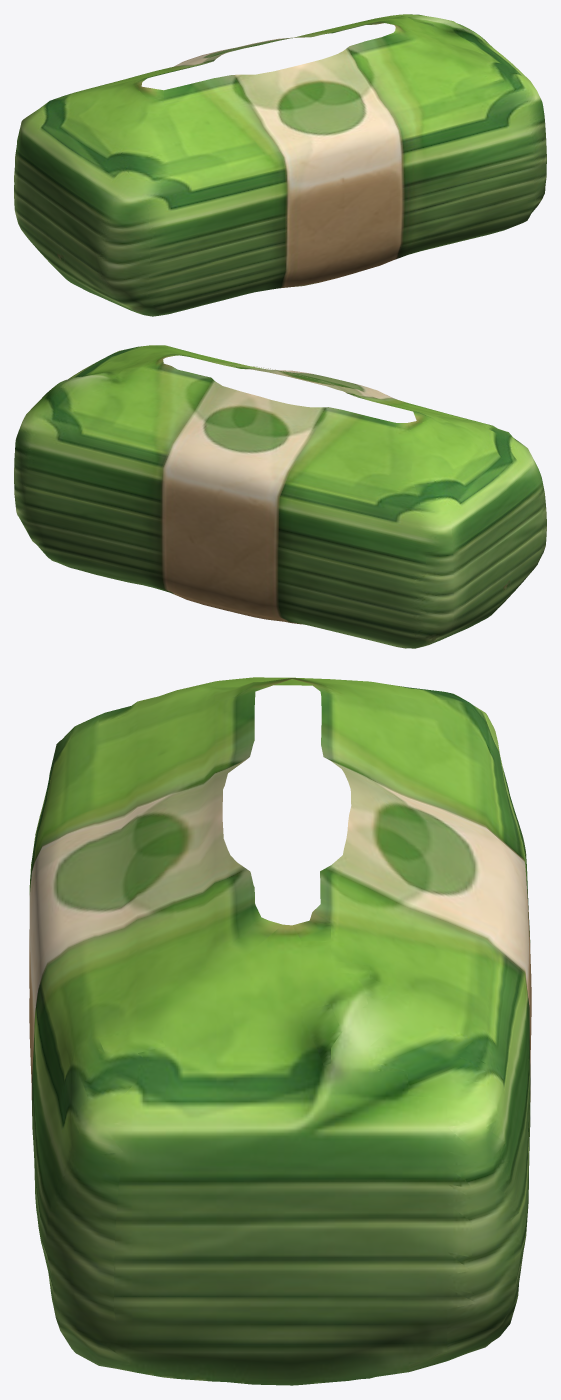
Rendered from banded_notes.glb.
3 views of the same model, one above another, from view 1: azimuth 30°, elevation 25°; view 2: azimuth 150°, elevation 25°; view 3: azimuth 270°, elevation 25° (orthographic). The views are drawn at different scales.
Parts seen in each view (by area): view 1: banded_notes; view 2: banded_notes; view 3: banded_notes.
Boxes of the visible parts, left/top/right/bottom form: banded_notes: left=14, top=14, right=546, bottom=316; banded_notes: left=14, top=345, right=546, bottom=648; banded_notes: left=29, top=677, right=531, bottom=1385.
Bounding box in the file's own units: 0.35 × 0.1694 × 0.1694.
Materials: 1 (1 with a texture image).
